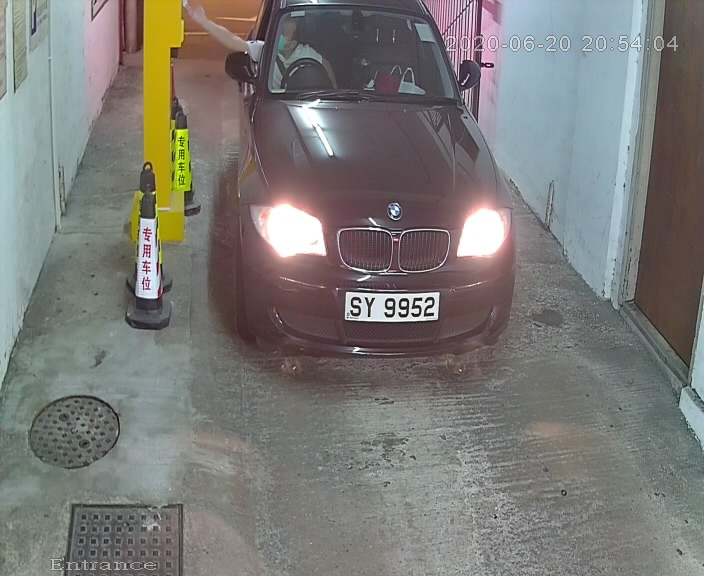privatecar: (208, 1, 542, 398)
